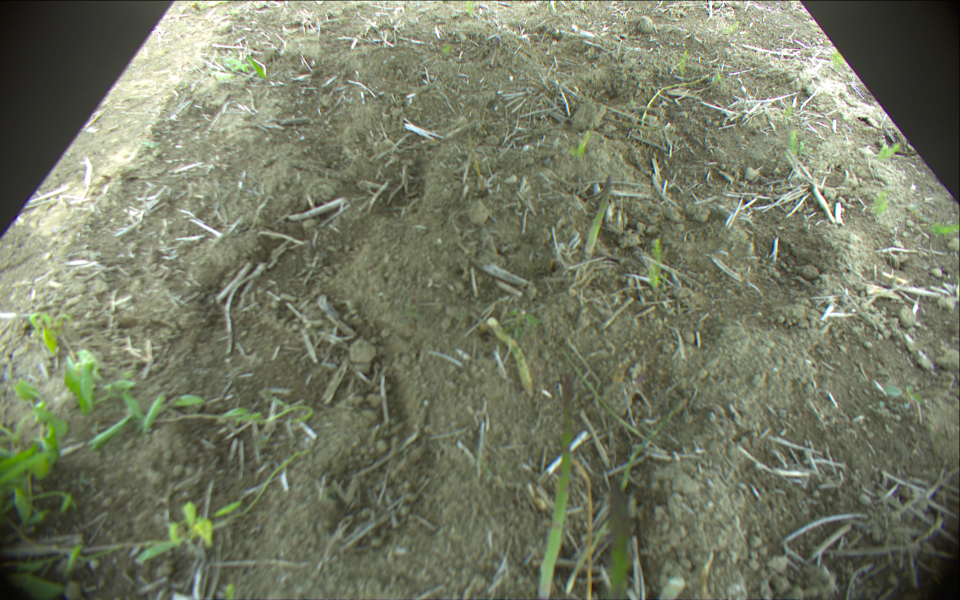aspa: (540, 374, 575, 600), (486, 316, 538, 399), (602, 475, 631, 600), (577, 174, 612, 264)
